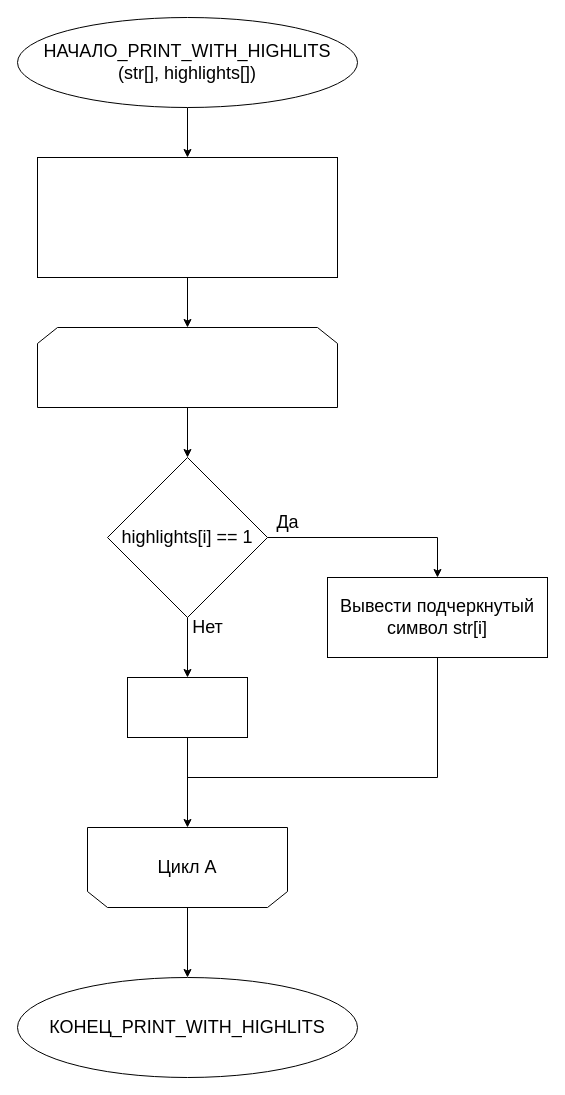
The diagram is 565 pixels wide and 1095 high, and some of its shapes have lost their labels. The centre of each missing label's shape, as x and y in pixels:
"Вывести str[i]" goes at point 187,707.
"Инициализировать переменную length, указывающую на длину str" goes at point 187,217.
"Цикл А: по всем i от нуля до length" goes at point 187,367.
